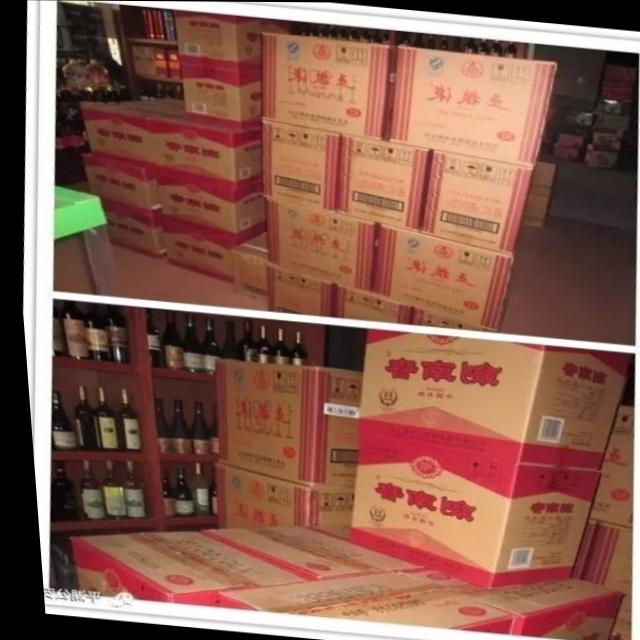box: (341, 433, 593, 588), (352, 328, 627, 470), (386, 45, 556, 167), (207, 570, 504, 633), (209, 358, 356, 484), (62, 531, 305, 607), (384, 566, 616, 640), (367, 223, 511, 330), (260, 32, 397, 141), (195, 524, 414, 579), (418, 149, 531, 255), (260, 196, 375, 291), (333, 134, 428, 231), (208, 462, 345, 528), (147, 115, 258, 188), (260, 119, 340, 211), (154, 174, 261, 240), (174, 10, 289, 69), (155, 219, 257, 283), (78, 101, 183, 163), (180, 61, 260, 129), (79, 152, 155, 217), (263, 262, 331, 316), (327, 281, 407, 323), (100, 206, 161, 258), (226, 230, 262, 303)
